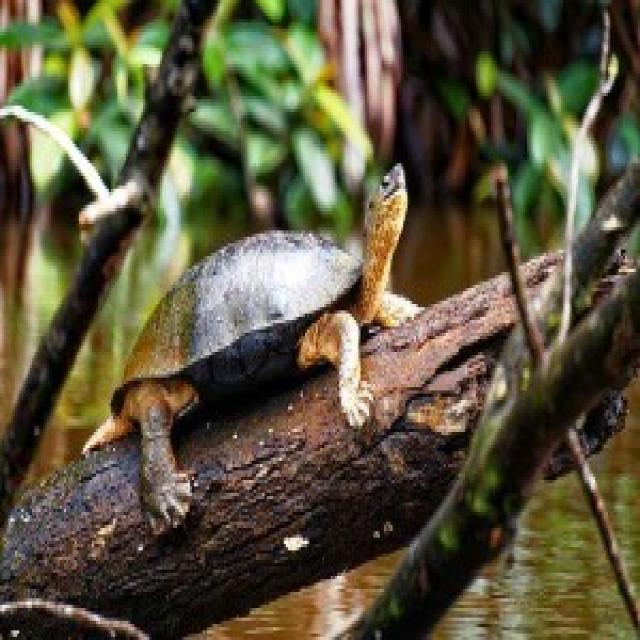Sea turtle: (80, 162, 454, 534)
